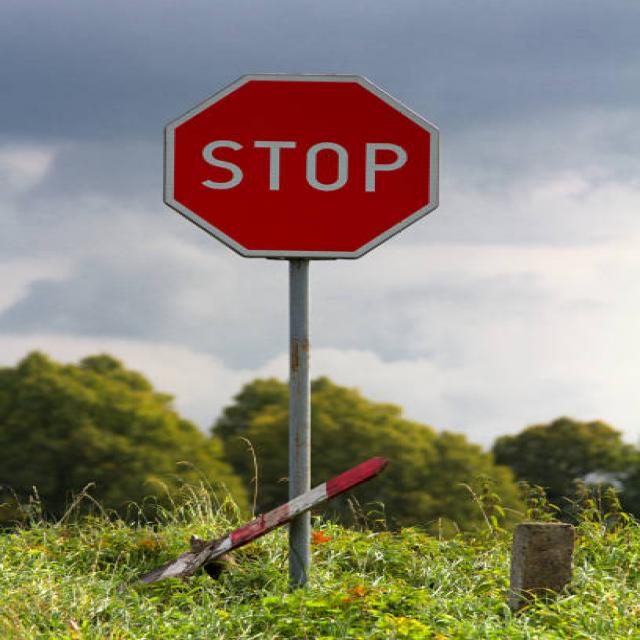stop: (154, 64, 454, 266)
